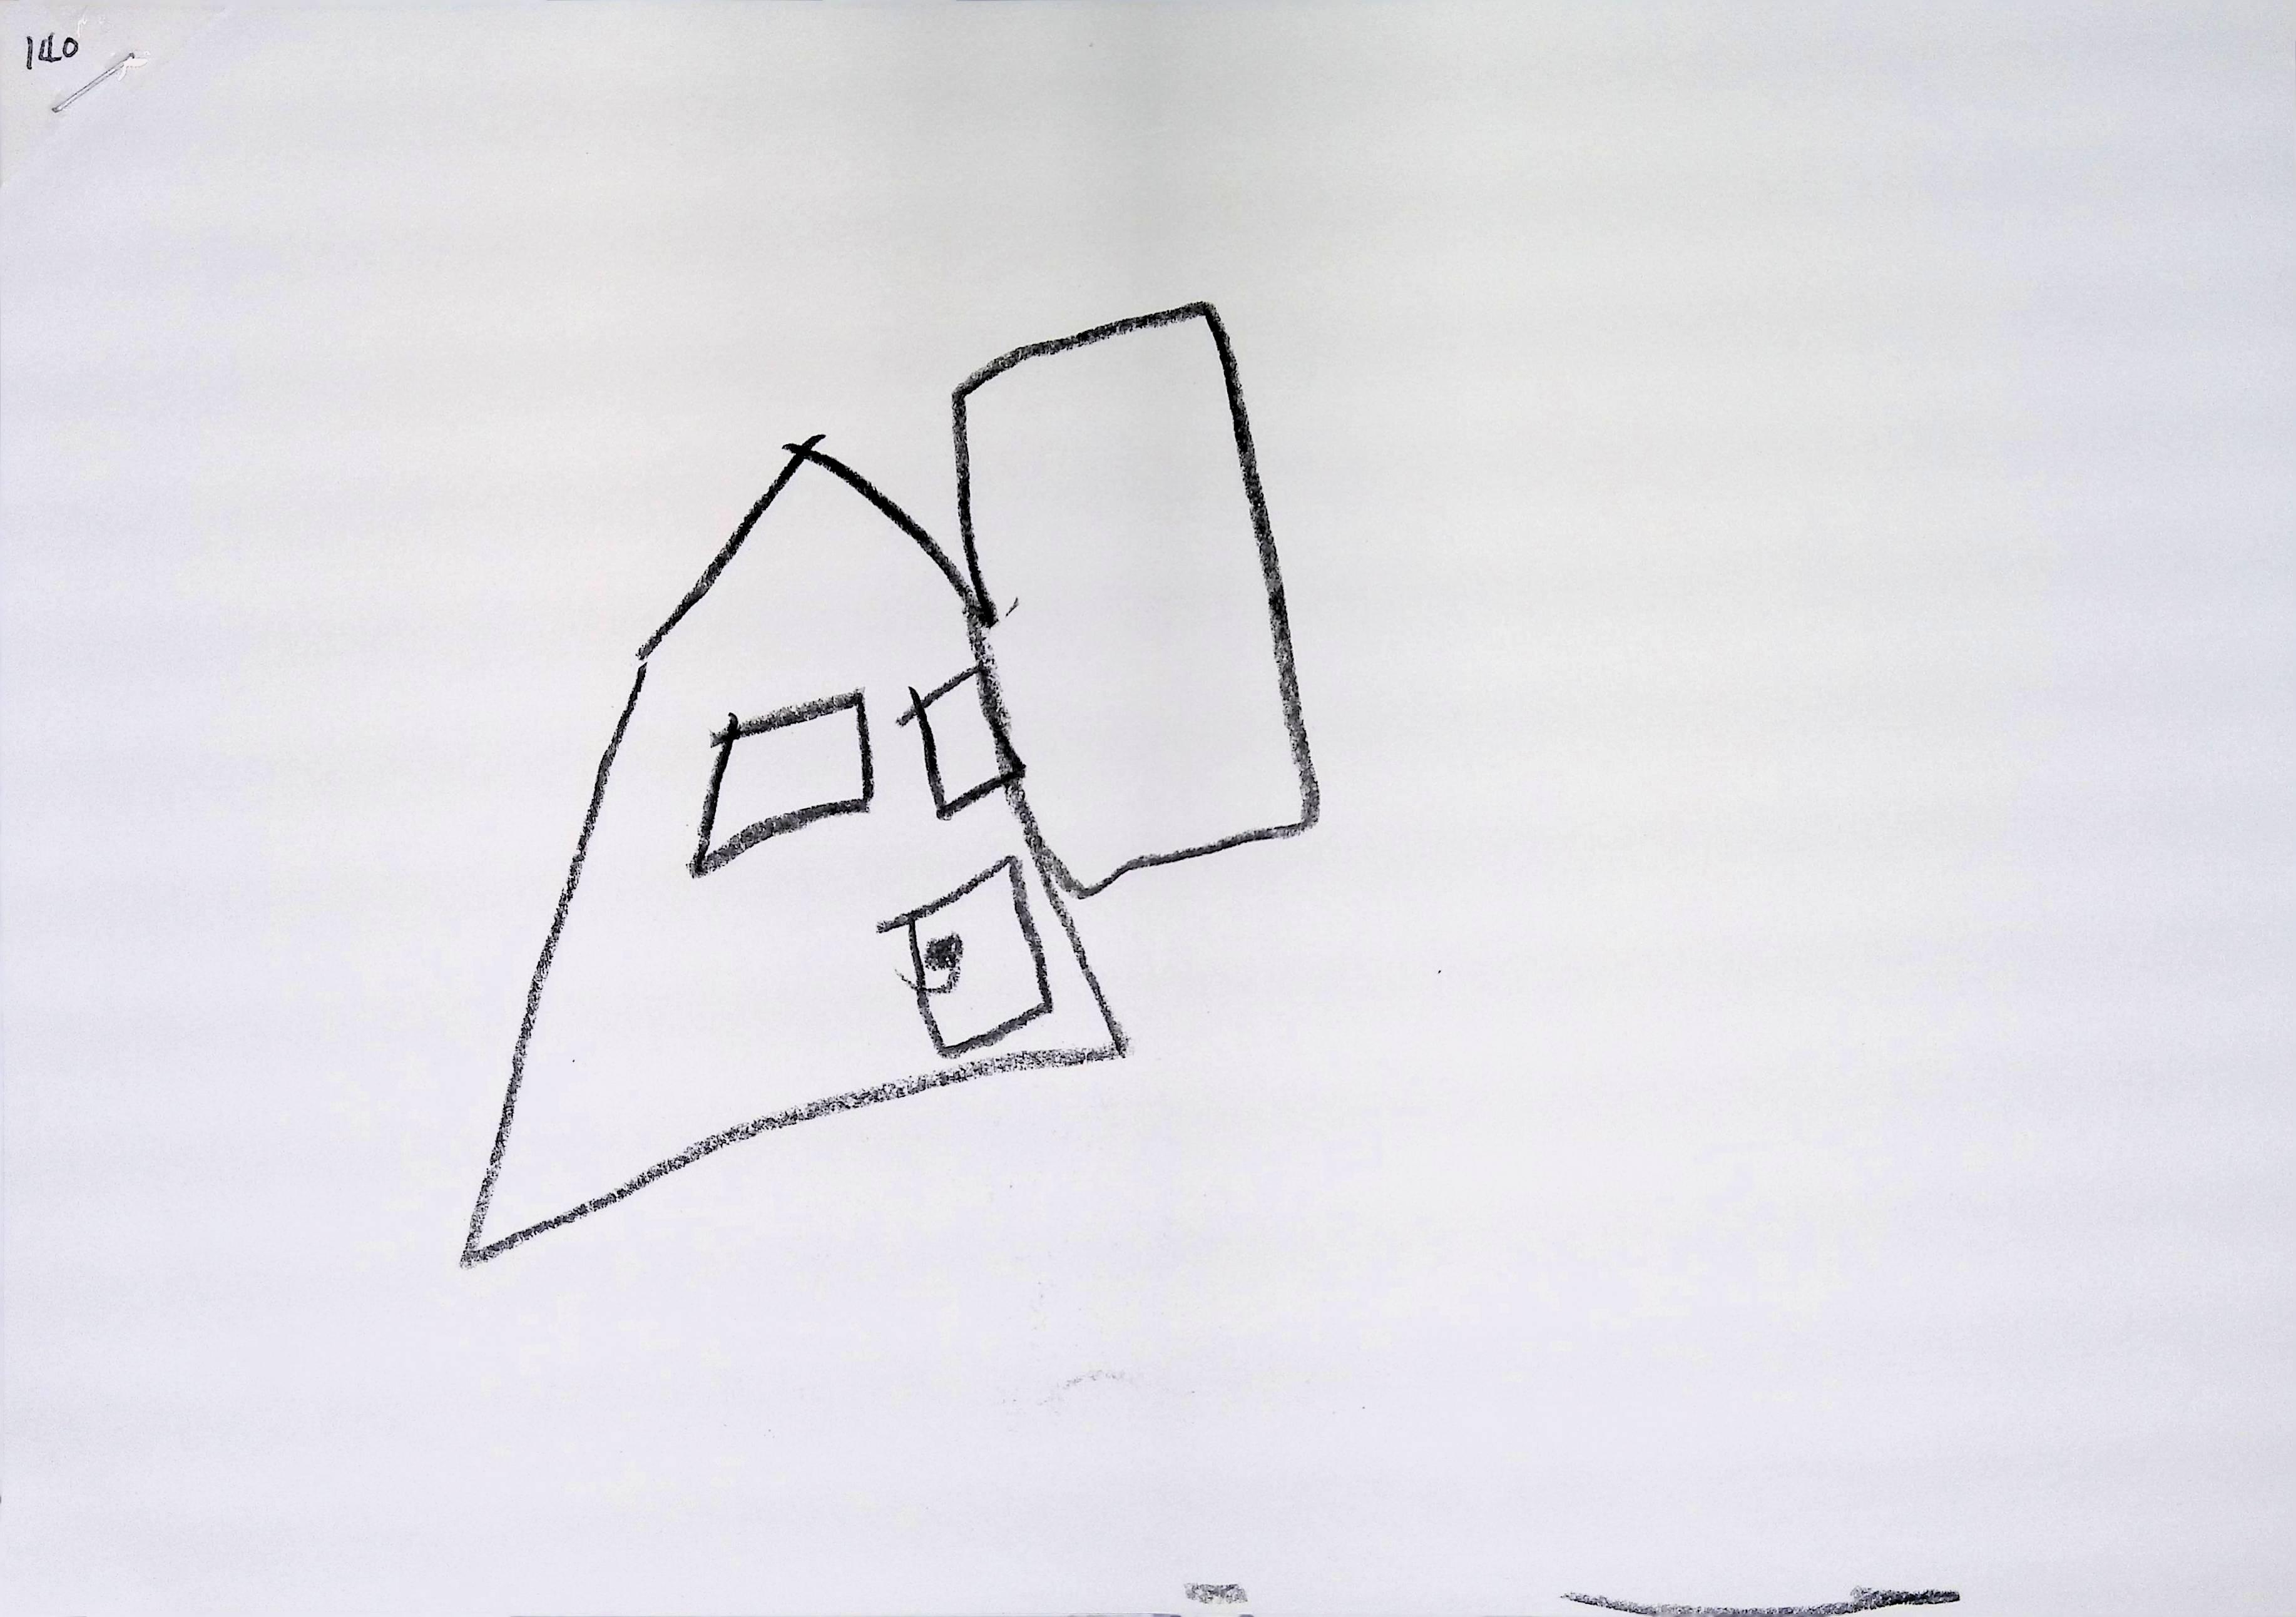chimney: (952, 299, 1318, 917)
door: (877, 856, 1052, 1059)
house: (446, 276, 1326, 1263)
wall: (478, 479, 1099, 1227)
window: (686, 688, 873, 877), (896, 663, 1024, 817)
